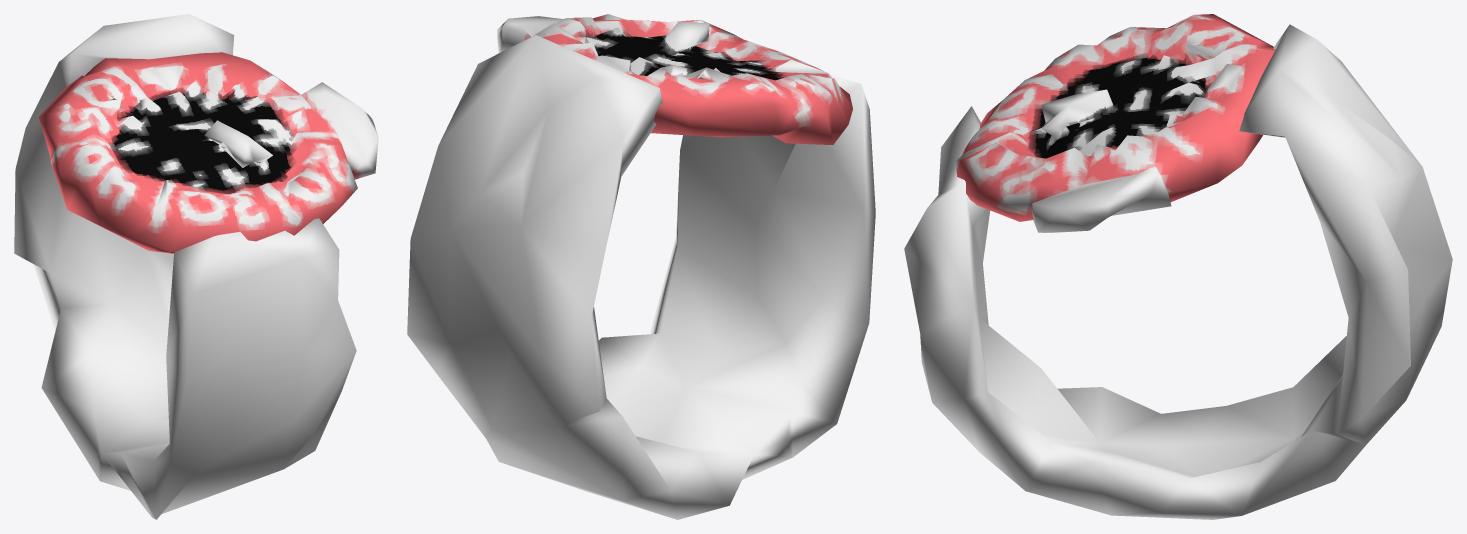
Rendered from sub rose.glb.
The picture shows the model from 3 angles, left to right: view 1: azimuth 30°, elevation 25°; view 2: azimuth 150°, elevation 25°; view 3: azimuth 270°, elevation 25°; orthographic projection. The views are drawn at different scales.
Visible parts, largest first — view 1: watch_sub_rose.001; view 2: watch_sub_rose.001; view 3: watch_sub_rose.001.
Boxes of the visible parts, x1=… form: watch_sub_rose.001: x1=14, y1=14, x2=378, y2=519; watch_sub_rose.001: x1=407, y1=14, x2=875, y2=519; watch_sub_rose.001: x1=904, y1=14, x2=1452, y2=519.
Size of the model in its own units: 0.037 by 0.0491 by 0.0512.
2 materials, 2 textured.
